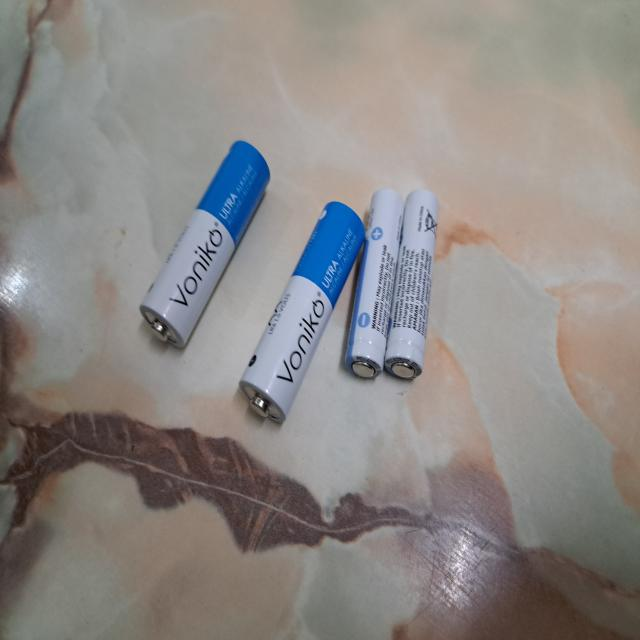battery: (234, 199, 366, 426), (140, 140, 271, 349), (345, 190, 404, 382), (383, 188, 440, 381)
